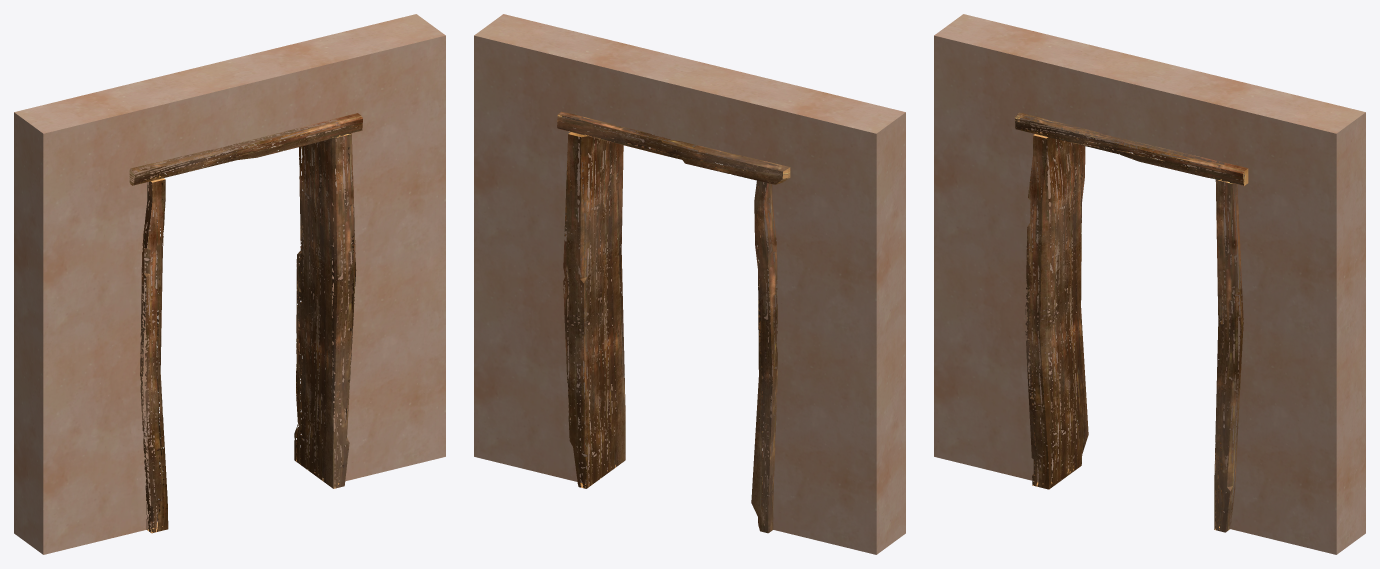
The picture shows the model from 3 angles, left to right: view 1: azimuth 30°, elevation 25°; view 2: azimuth 150°, elevation 25°; view 3: azimuth 330°, elevation 25°; orthographic projection.
Visible parts, largest first — view 1: SM_BB_T4_Wall_Large_Doorframe_02_LOD0; view 2: SM_BB_T4_Wall_Large_Doorframe_02_LOD0; view 3: SM_BB_T4_Wall_Large_Doorframe_02_LOD0.
Part boxes in pixels (x1,y1,x2,y2): SM_BB_T4_Wall_Large_Doorframe_02_LOD0: [14, 14, 445, 554]; SM_BB_T4_Wall_Large_Doorframe_02_LOD0: [474, 14, 905, 554]; SM_BB_T4_Wall_Large_Doorframe_02_LOD0: [934, 14, 1365, 554].
Size of the model in its own units: 3 by 3 by 0.5176.
Materials: 2 (2 with a texture image).
